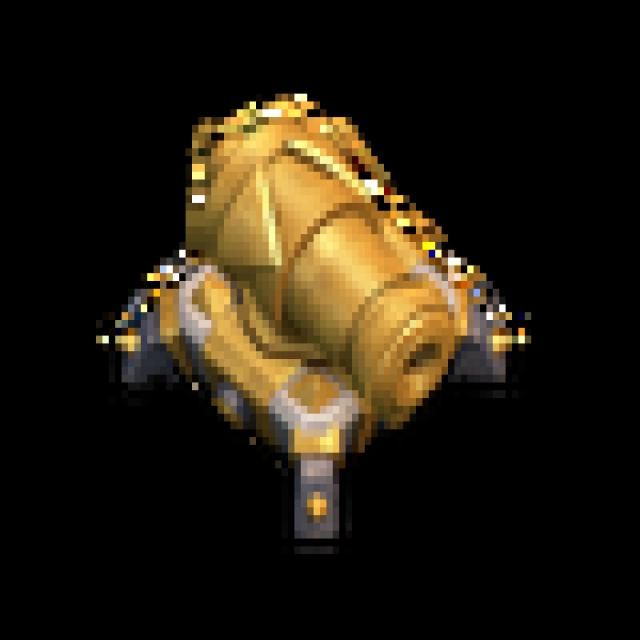cannon: (102, 84, 522, 539)
